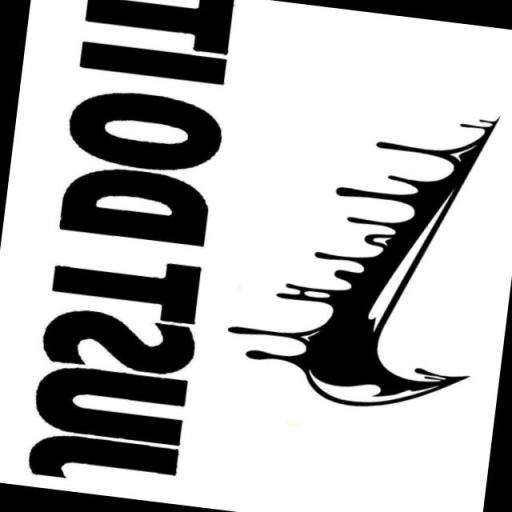Nike: (300, 102, 496, 428)
